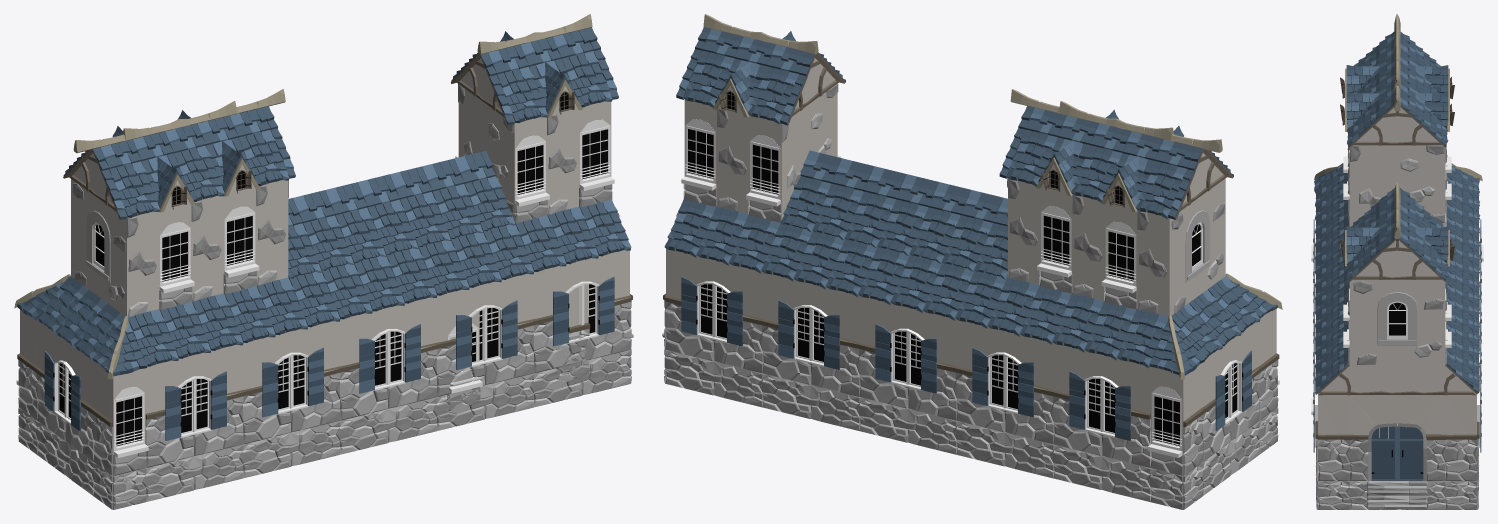
File: house_16.fbx
3 views of the same model, side by side, from view 1: azimuth 30°, elevation 25°; view 2: azimuth 150°, elevation 25°; view 3: azimuth 270°, elevation 25° (orthographic). The views are drawn at different scales.
Parts seen in each view (by area): view 1: WINDOW_03_3, WINDOW_03_5, WINDOW_03_6, WINDOW_03_7, WINDOW_03_8, WINDOW_03_15, WINDOW_07_2, WALL_05_3, FOUNDATION_01_2, WINDOW_02_6, FOUNDATION_01_3, FOUNDATION_01_4 (+67 smaller); view 2: WINDOW_03_13, WINDOW_03_11, WINDOW_03_10, WINDOW_03_12, WINDOW_03_9, WINDOW_03_15, WINDOW_07_2, WALL_05_3, WINDOW_02_15, FOUNDATION_01_12, FOUNDATION_01_10, FOUNDATION_01_11 (+64 smaller); view 3: DOOR_05_3, WINDOW_07_3, WALL_05_2, WALL_04_22, WALL_04_21, STAIRS_03_2, FOUNDATION_01_7, ROOF_TRIANGLE_WOOD_6, ROOF_TRIANGLE_WOOD_8, ROOF_TRIANGLE_WOOD_7, ROOF_TRIANGLE_WOOD_3, FOUNDATION_03_7 (+80 smaller).
Part boxes in pixels (x1,y1,x2,y2): WINDOW_03_3: [145, 344, 243, 467]; WINDOW_03_5: [242, 321, 340, 444]; WINDOW_03_6: [339, 297, 437, 420]; WINDOW_03_7: [436, 274, 534, 396]; WINDOW_03_8: [533, 250, 631, 373]; WINDOW_03_15: [36, 322, 94, 461]; WINDOW_07_2: [71, 179, 128, 315]; WALL_05_3: [458, 84, 514, 220]; FOUNDATION_01_2: [145, 444, 243, 501]; WINDOW_02_6: [112, 368, 148, 475]; FOUNDATION_01_3: [242, 421, 340, 478]; FOUNDATION_01_4: [339, 397, 437, 454]; WINDOW_03_13: [1052, 343, 1150, 467]; WINDOW_03_11: [858, 296, 956, 420]; WINDOW_03_10: [761, 272, 859, 396]; WINDOW_03_12: [955, 319, 1053, 444]; WINDOW_03_9: [664, 248, 762, 373]; WINDOW_03_15: [1202, 322, 1260, 461]; WINDOW_07_2: [1167, 178, 1225, 316]; WALL_05_3: [781, 83, 838, 218]; WINDOW_02_15: [1147, 367, 1183, 475]; FOUNDATION_01_12: [1053, 444, 1151, 501]; FOUNDATION_01_10: [859, 397, 956, 454]; FOUNDATION_01_11: [956, 421, 1054, 478]; DOOR_05_3: [1349, 395, 1445, 480]; WINDOW_07_3: [1349, 279, 1445, 365]; WALL_05_2: [1349, 145, 1445, 226]; WALL_04_22: [1445, 395, 1476, 480]; WALL_04_21: [1318, 395, 1349, 480]; STAIRS_03_2: [1367, 481, 1427, 508]; FOUNDATION_01_7: [1349, 481, 1445, 509]; ROOF_TRIANGLE_WOOD_6: [1381, 365, 1413, 394]; ROOF_TRIANGLE_WOOD_8: [1413, 365, 1445, 394]; ROOF_TRIANGLE_WOOD_7: [1349, 365, 1381, 394]; ROOF_TRIANGLE_WOOD_3: [1381, 116, 1413, 145]; FOUNDATION_03_7: [1445, 480, 1476, 509].
Bounding box in the file's own units: 1722 × 986 × 541.
